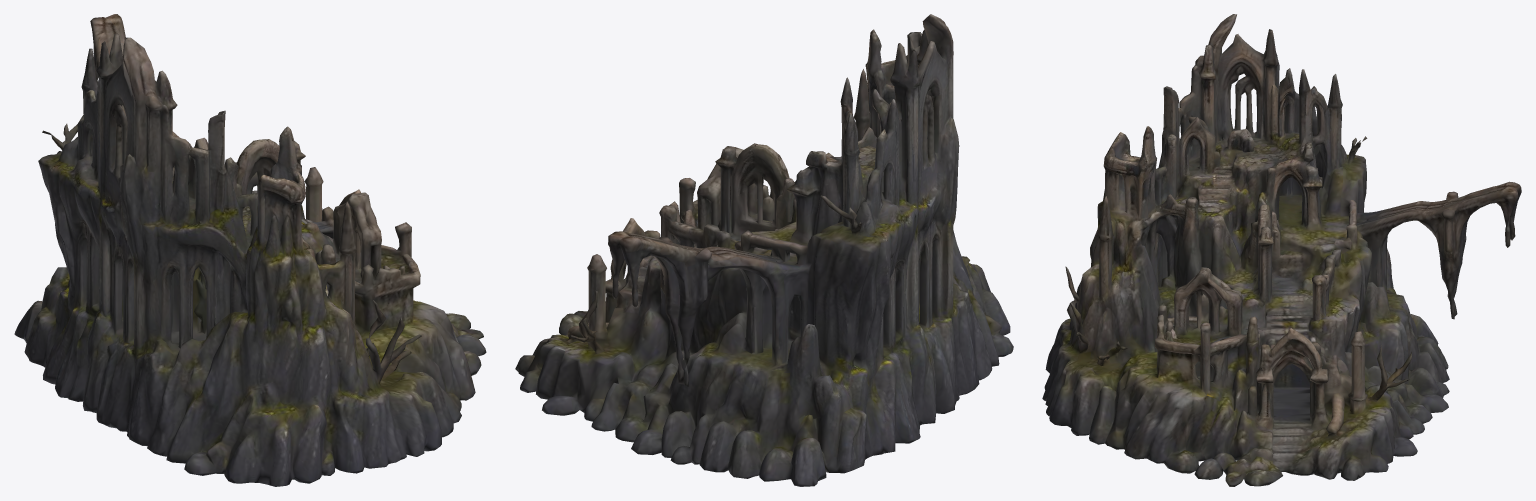
File: lm_shattered_citadel.glb
3 renders of one model, left to right at view 1: azimuth 30°, elevation 25°; view 2: azimuth 150°, elevation 25°; view 3: azimuth 270°, elevation 25°, orthographic. The views are drawn at different scales.
Visible parts, largest first — view 1: tripo_node_bc5ae33a-12b8-4a03-b585-0363e73fb27d; view 2: tripo_node_bc5ae33a-12b8-4a03-b585-0363e73fb27d; view 3: tripo_node_bc5ae33a-12b8-4a03-b585-0363e73fb27d.
Boxes of the visible parts, x1,y1,x2,y2 form: tripo_node_bc5ae33a-12b8-4a03-b585-0363e73fb27d: [14, 14, 486, 486]; tripo_node_bc5ae33a-12b8-4a03-b585-0363e73fb27d: [515, 14, 1013, 486]; tripo_node_bc5ae33a-12b8-4a03-b585-0363e73fb27d: [1042, 14, 1521, 486].
Bounding box in the file's own units: 10.21 × 9.77 × 13.
Materials: 1 (1 with a texture image).
